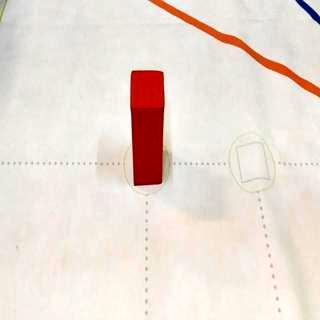redbox: (130, 69, 166, 187)
